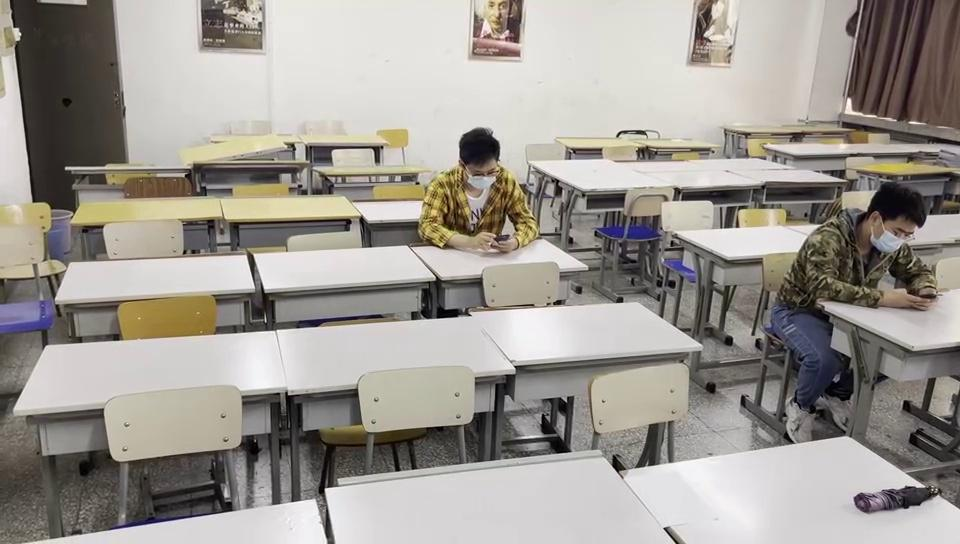phone: (818, 183, 939, 309), (419, 130, 536, 252)
